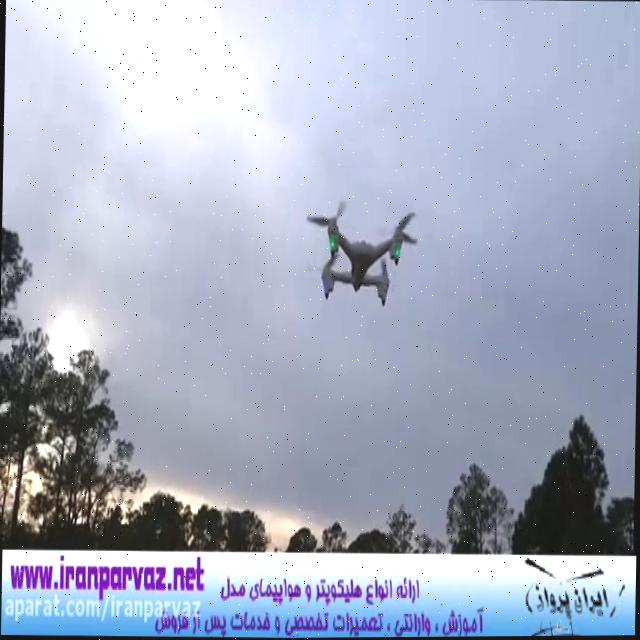drone: (301, 194, 422, 311)
